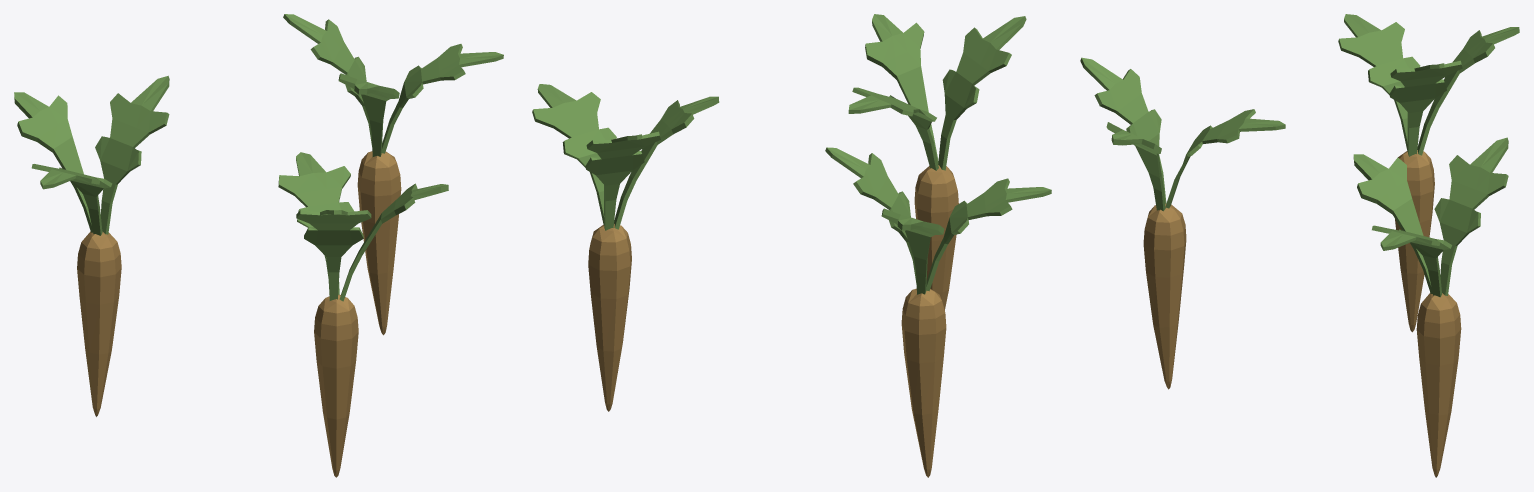
File: crop_carrot.s3.glb
3 views of the same model, side by side, from view 1: azimuth 30°, elevation 25°; view 2: azimuth 150°, elevation 25°; view 3: azimuth 270°, elevation 25° (orthographic). The views are drawn at different scales.
Bounding box in the file's own units: 0.6587 × 0.4077 × 0.5242.
